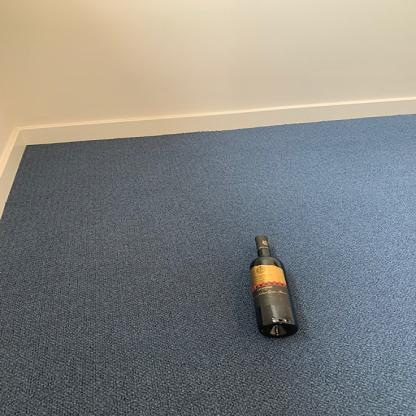trash: (245, 234, 300, 340)
